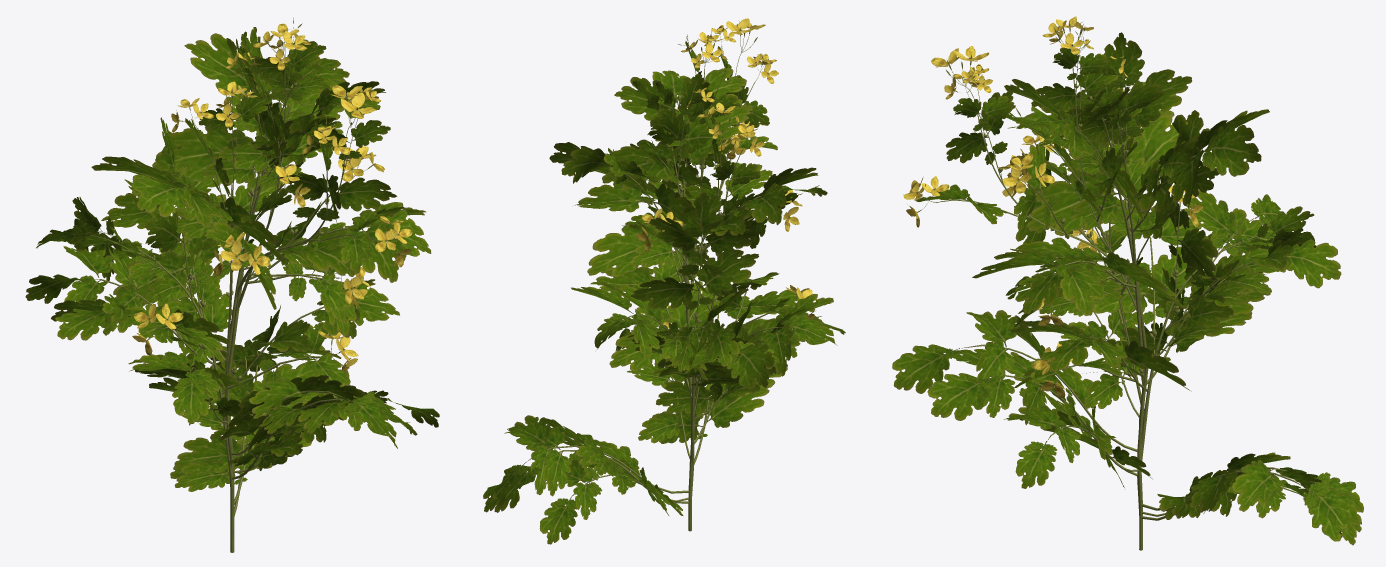
File: coriander.fbx
The picture shows the model from 3 angles, left to right: view 1: azimuth 30°, elevation 25°; view 2: azimuth 150°, elevation 25°; view 3: azimuth 270°, elevation 25°; orthographic projection. The views are drawn at different scales.
Visible parts, largest first — view 1: GC06_01; view 2: GC06_01; view 3: GC06_01.
Boxes of the visible parts, <box> form: GC06_01: <box>25,18,439,552</box>; GC06_01: <box>483,18,845,544</box>; GC06_01: <box>892,16,1363,550</box>.
Bounding box in the file's own units: 168 × 244 × 202.
Materials: 15 (15 with a texture image).
